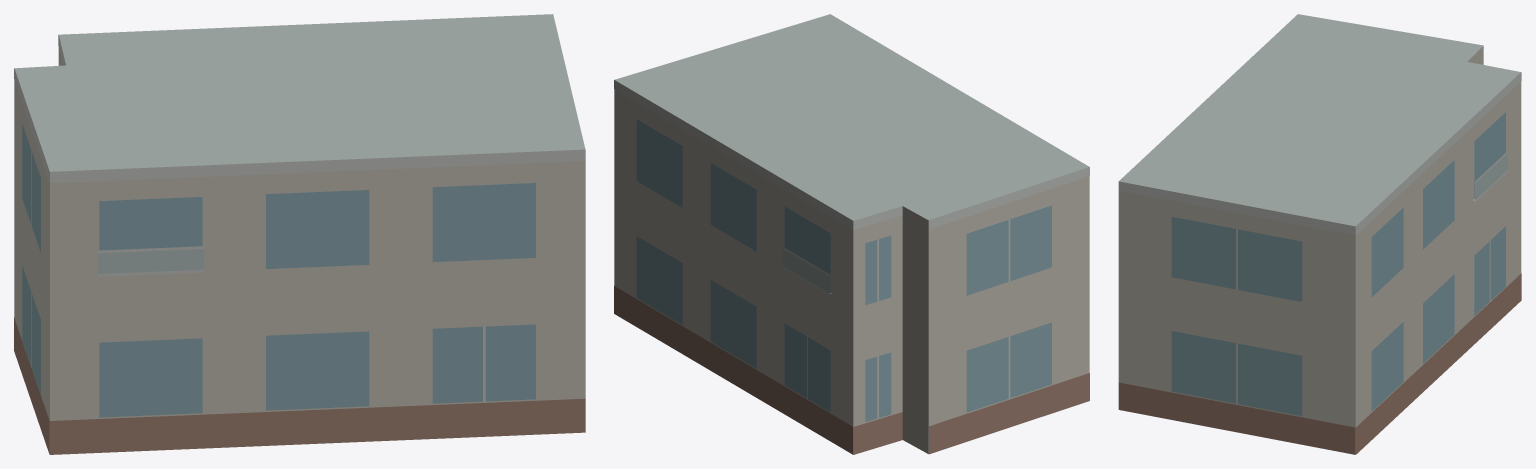
File: survey-upis-32940277.glb
3 renders of one model, left to right at view 1: azimuth 30°, elevation 25°; view 2: azimuth 150°, elevation 25°; view 3: azimuth 270°, elevation 25°, orthographic. The views are drawn at different scales.
Visible parts, largest first — view 1: survey-upis-32940277.tmp; view 2: survey-upis-32940277.tmp; view 3: survey-upis-32940277.tmp.
Part boxes in pixels (x1,y1,x2,y2): survey-upis-32940277.tmp: (14, 14, 585, 454); survey-upis-32940277.tmp: (614, 14, 1089, 454); survey-upis-32940277.tmp: (1118, 14, 1521, 454).
Bounding box in the file's own units: 12.18 × 6.1 × 9.76.
